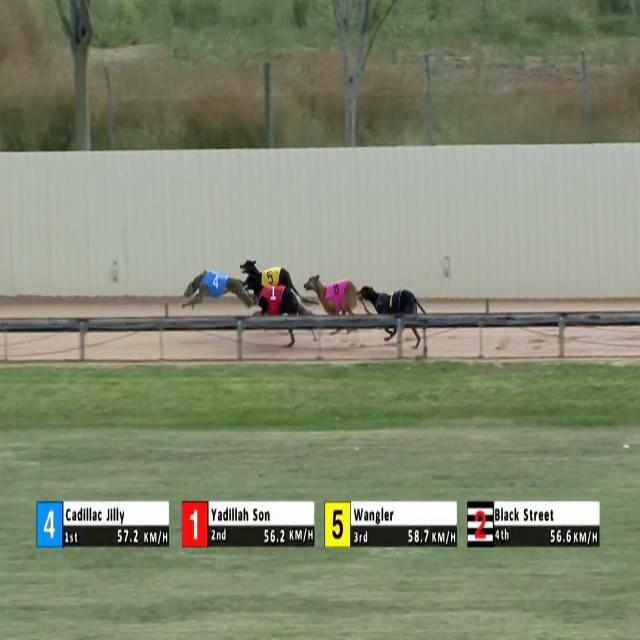dog_eight: (328, 280, 344, 308)
dog_five: (263, 268, 277, 288)
dog_four: (206, 272, 228, 298)
dog_one: (264, 284, 282, 306)
dog_seven: (383, 289, 398, 317)
rail: (1, 310, 640, 331)
